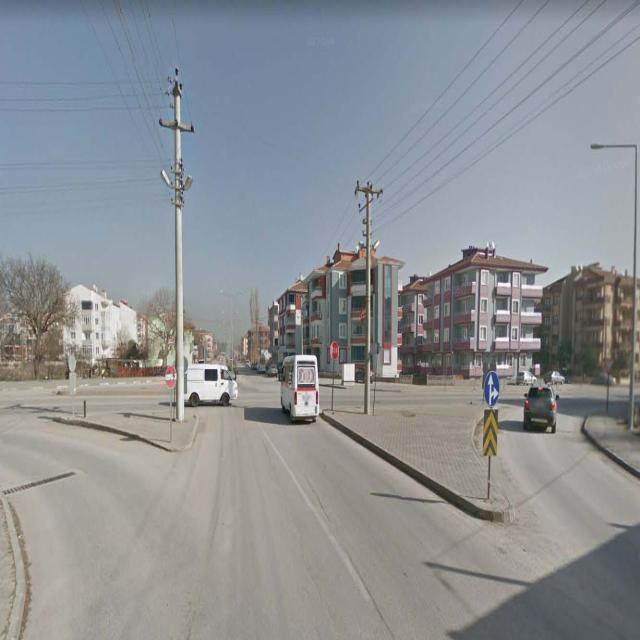dur: (331, 342, 338, 361)
girisyok: (166, 364, 176, 388)
ilerisag: (484, 371, 498, 406)
